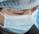with_mask: (1, 2, 39, 34)
